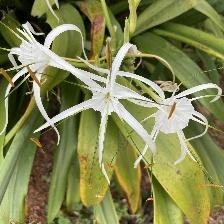spider lily: (64, 55, 152, 151)
